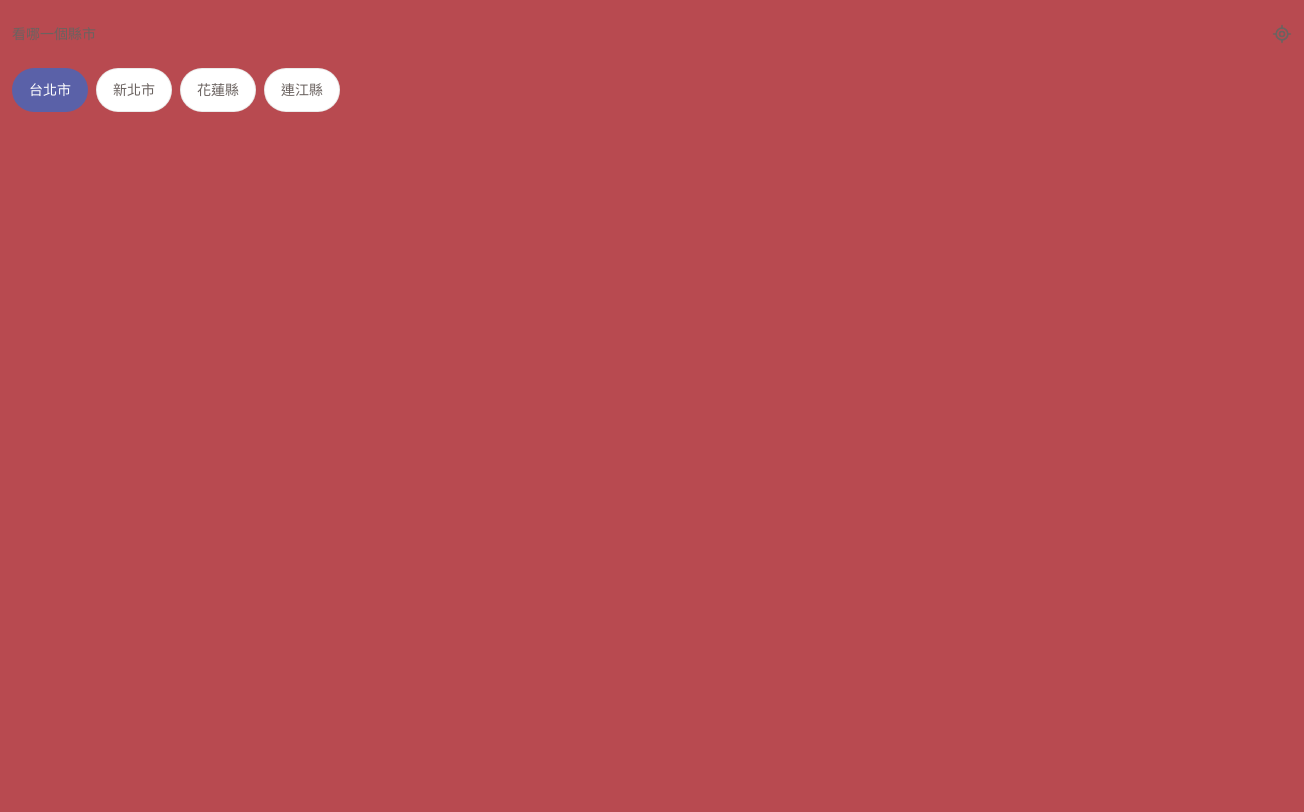
it: CountyPicker 的定位 › 瀏覽器沒有定位功能時直說，不會丟例外
Click the button named "用目前位置選縣市": point(1276, 34) left=1260, top=12, right=1292, bottom=56
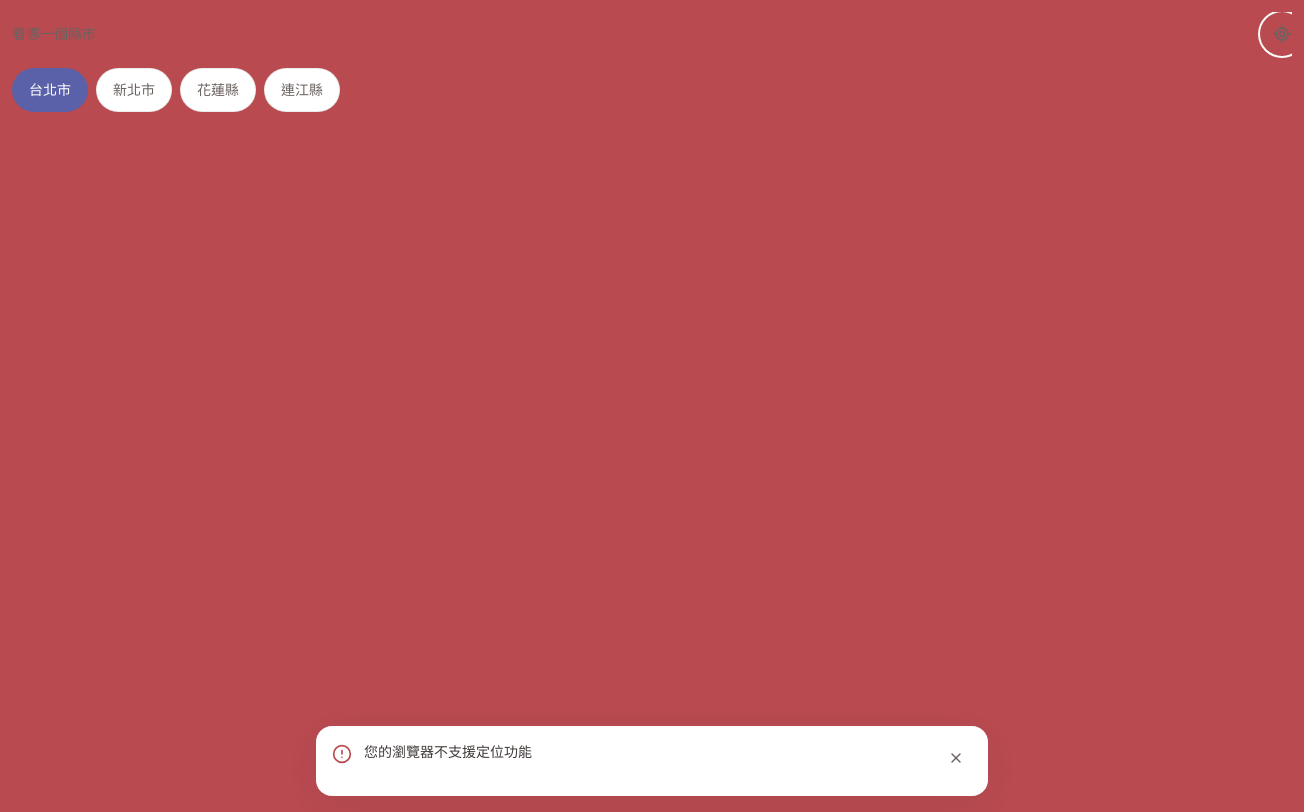
Result: the text "您的瀏覽器不支援定位功能" is shown at left=364, top=743, right=532, bottom=760
